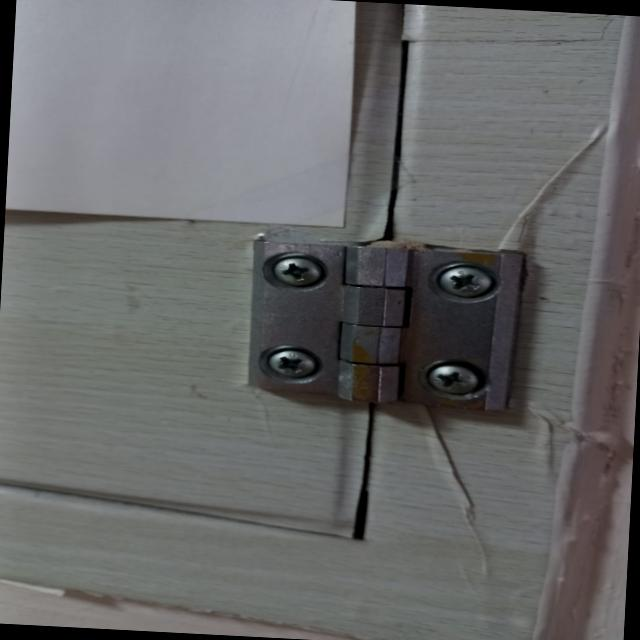Phillips: (412, 360, 494, 404), (257, 346, 319, 386), (432, 266, 492, 304), (270, 255, 330, 290)
